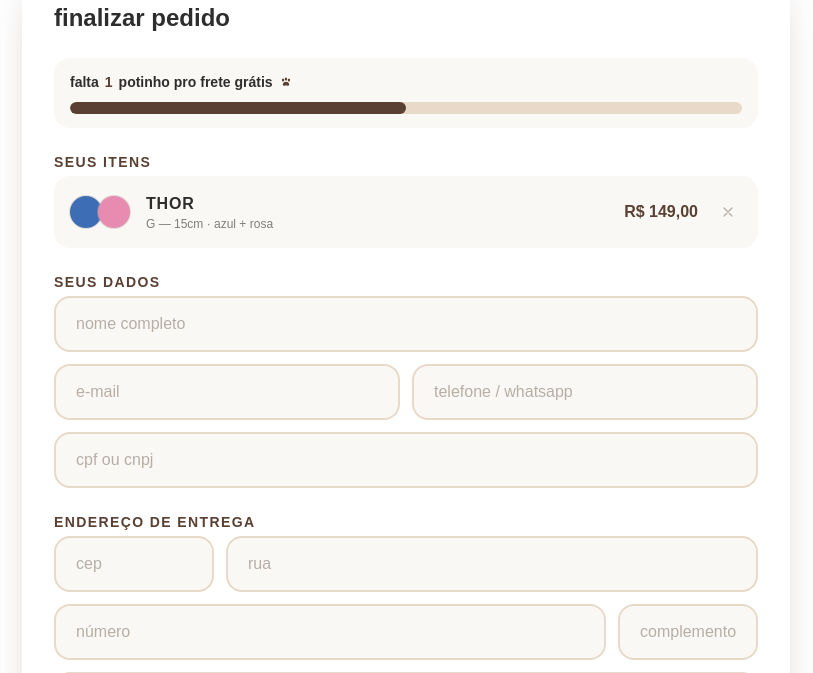
Test: CheckoutForm — com itens › cotar CEP: preenche endereço via ViaCEP e cota o frete
expect the text "THOR" is shown: met, box [146,195,194,212]
Step 1. Type "01310100" into the field with test id "checkout-cep" → {"x": 134, "y": 564}, box [54,536,214,592]
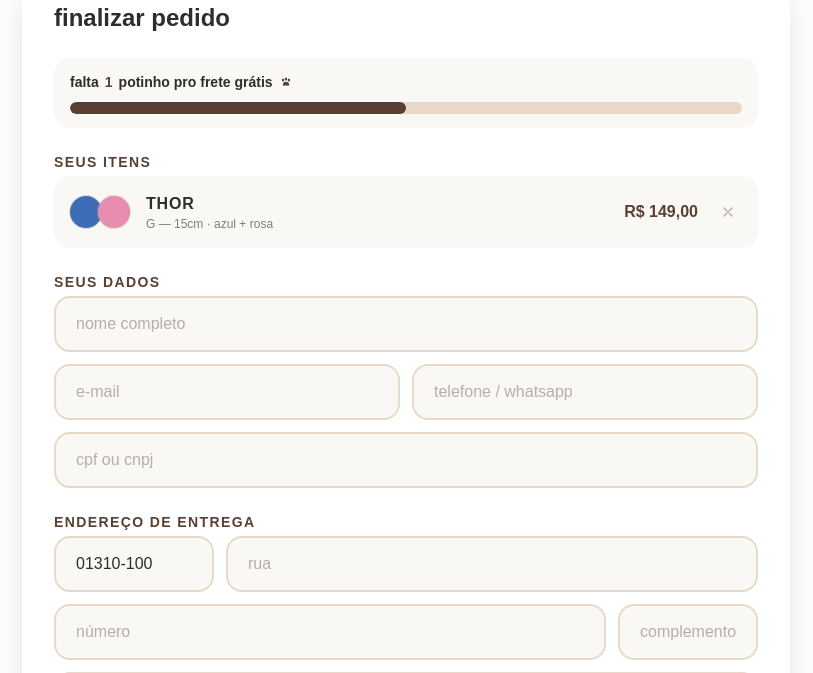
Step 2. Leave the field with test id "checkout-cep", box [54,536,214,592]
(page scrolled)
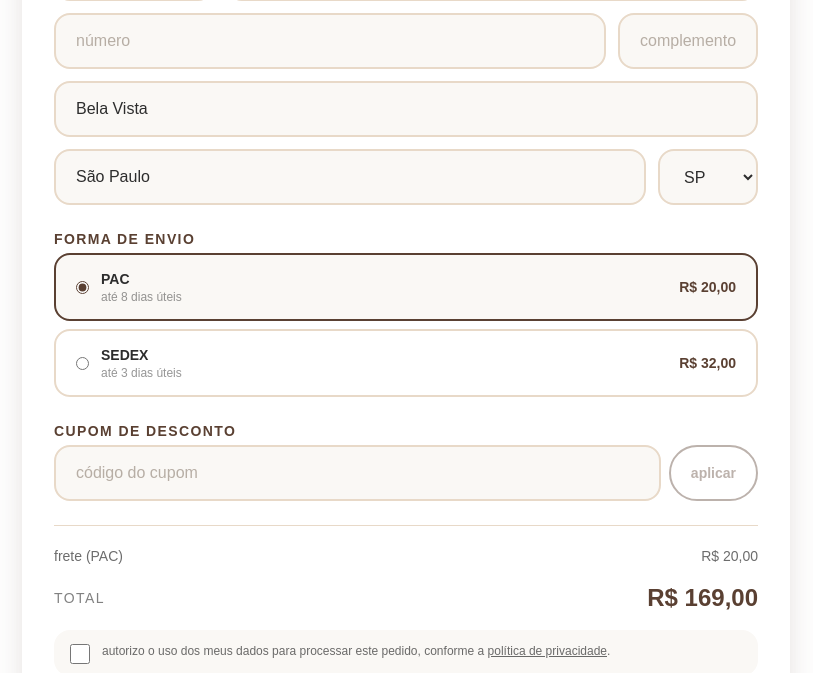
expect the text with test id "checkout-shipping-total" reads "R$ 20,00": met, box [701,548,758,564]
